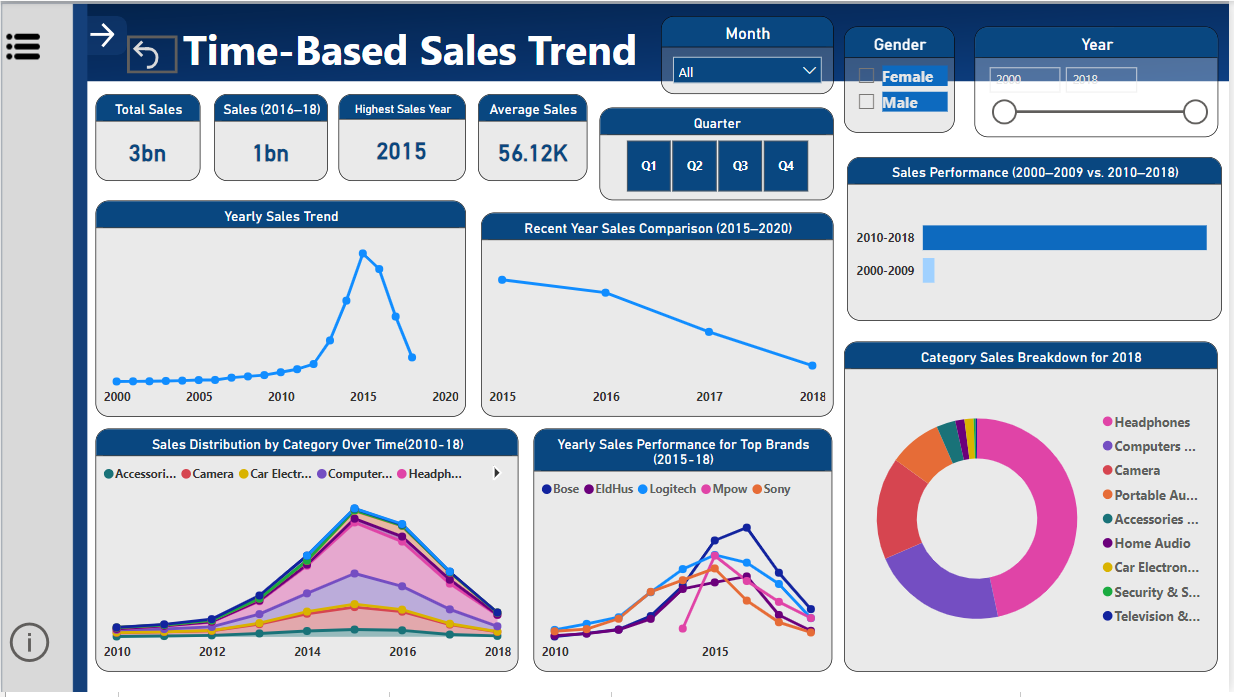

The page's visual inventory and layout, read from the dashboard file:
{"tool":"powerbi","page":{"name":"Time-Based Sales Trend Dashboard","canvas":[1280,720],"ordinal":4},"visuals":[{"type":"slicer","title":"Year","fields":{"Values":["cleaned.year"]},"box":[1014.8,26.1,254,115.5],"z":0,"group":"g1"},{"type":"actionButton","title":"info","box":[2.5,628.3,53.1,79.7],"z":0,"group":"g2"},{"type":"actionButton","title":"Menu","box":[1.6,0,61,95.3],"z":1000,"group":"g2"},{"type":"slicer","title":"Month","fields":{"Values":["cleaned.Month"]},"box":[687.7,15.6,179.7,81.3],"z":1000,"group":"g1"},{"type":"actionButton","title":"Reset","box":[132,36.3,52.8,39.6],"z":1000},{"type":"actionButton","title":"Close Page","box":[87.5,15.6,43.8,40.6],"z":2000},{"type":"barChart","title":"Sales Performance (2000–2009 vs. 2010–2018)","fields":{"Category":["cleaned.Decade"],"Y":["Sum(cleaned.amount)"]},"box":[880.8,163.1,390.7,170.4],"z":2000,"group":"g1"},{"type":"group","id":"g1","title":"Trend","box":[98.5,15.6,1173.1,683],"z":3000},{"type":"slicer","title":"Quarter","fields":{"Values":["cleaned.Quarter"]},"box":[623.7,110.9,243.8,96.9],"z":3000,"group":"g1"},{"type":"group","id":"g2","title":"Menu bar","box":[1.6,0,61,708],"z":4000},{"type":"cardVisual","title":"Average Sales","fields":{"Data":["Avg(cleaned.amount)"]},"box":[497.1,96.9,114.1,90.7],"z":4000,"group":"g1"},{"type":"cardVisual","title":"Highest Sales Year","fields":{"Data":["cleaned.Highest Sales Year"]},"box":[351.7,96.9,132.9,90.7],"z":5000,"group":"g1"},{"type":"slicer","title":"Gender","fields":{"Values":["cleaned.gender"]},"box":[879.2,26.4,115.5,110.5],"z":5500,"group":"g1"},{"type":"cardVisual","title":"Sales (2016–18)","fields":{"Data":["cleaned.Sales_5_years"]},"box":[222,96.9,118.8,90.7],"z":6000,"group":"g1"},{"type":"cardVisual","title":"Total Sales","fields":{"Data":["Sum(cleaned.amount)"]},"box":[98.5,96.9,109.4,90.7],"z":7000,"group":"g1"},{"type":"lineChart","title":"Yearly Sales Trend","fields":{"Y":["Sum(cleaned.amount)"],"Category":["cleaned.year"]},"box":[98.5,207.8,386.1,225.1],"z":8000,"group":"g1"},{"type":"donutChart","title":"Category Sales Breakdown for 2018 ","fields":{"Category":["cleaned.category"],"Y":["Sum(cleaned.amount)"]},"box":[878.4,354.8,389.2,343.9],"z":9000,"group":"g1"},{"type":"lineChart","title":"Recent Year Sales Comparison (2015–2020)","fields":{"Y":["Sum(cleaned.amount)"],"Category":["cleaned.year"]},"box":[500.2,220.4,367.3,212.6],"z":10000,"group":"g1"},{"type":"lineChart","title":"Yearly Sales Performance for Top Brands (2010-18)","fields":{"Category":["cleaned.Date.Variation.Date Hierarchy.Year"],"Y":["Sum(cleaned.amount)"],"Series":["cleaned.brand"]},"box":[554.9,445.4,311,253.2],"z":11000,"group":"g1"},{"type":"stackedAreaChart","title":"Sales Distribution by Category Over Time(2010-18)","fields":{"Category":["cleaned.Date.Variation.Date Hierarchy.Year"],"Y":["Sum(cleaned.amount)"],"Series":["cleaned.category"]},"box":[98.5,445.4,440.8,253.2],"z":12000,"group":"g1"},{"type":"textbox","box":[184.5,15.6,490.8,79.7],"z":13000,"group":"g1"}]}

Visuals, with their boxes on the page's 1280x720 design canvas (x1, y1, x2, y2). These are canvas units, not pixel positions in the 1234x697 screenshot, which may show the page scaled, cropped or inside an application window:
"Year" slicer: (left=1015, top=26, right=1269, bottom=142)
"info" actionButton: (left=2, top=628, right=56, bottom=708)
"Menu" actionButton: (left=2, top=0, right=63, bottom=95)
"Month" slicer: (left=688, top=16, right=867, bottom=97)
"Reset" actionButton: (left=132, top=36, right=185, bottom=76)
"Close Page" actionButton: (left=88, top=16, right=131, bottom=56)
"Sales Performance (2000–2009 vs. 2010–2018)" barChart: (left=881, top=163, right=1272, bottom=334)
"Trend" group: (left=98, top=16, right=1272, bottom=699)
"Quarter" slicer: (left=624, top=111, right=868, bottom=208)
"Menu bar" group: (left=2, top=0, right=63, bottom=708)
"Average Sales" cardVisual: (left=497, top=97, right=611, bottom=188)
"Highest Sales Year" cardVisual: (left=352, top=97, right=485, bottom=188)
"Gender" slicer: (left=879, top=26, right=995, bottom=137)
"Sales (2016–18)" cardVisual: (left=222, top=97, right=341, bottom=188)
"Total Sales" cardVisual: (left=98, top=97, right=208, bottom=188)
"Yearly Sales Trend" lineChart: (left=98, top=208, right=485, bottom=433)
"Category Sales Breakdown for 2018 " donutChart: (left=878, top=355, right=1268, bottom=699)
"Recent Year Sales Comparison (2015–2020)" lineChart: (left=500, top=220, right=868, bottom=433)
"Yearly Sales Performance for Top Brands (2010-18)" lineChart: (left=555, top=445, right=866, bottom=699)
"Sales Distribution by Category Over Time(2010-18)" stackedAreaChart: (left=98, top=445, right=539, bottom=699)
textbox: (left=184, top=16, right=675, bottom=95)
